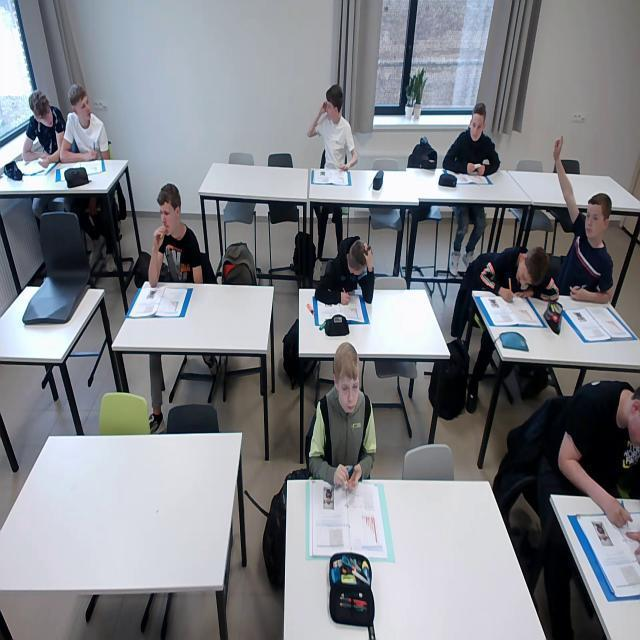Looking away: (72, 97, 92, 122), (323, 98, 342, 122), (36, 108, 54, 128)
Looking forward: (335, 375, 360, 414), (159, 204, 179, 233), (469, 115, 484, 142)
Raising hand: (546, 132, 615, 306)
Reading-writing: (478, 246, 552, 329), (314, 235, 376, 328)
